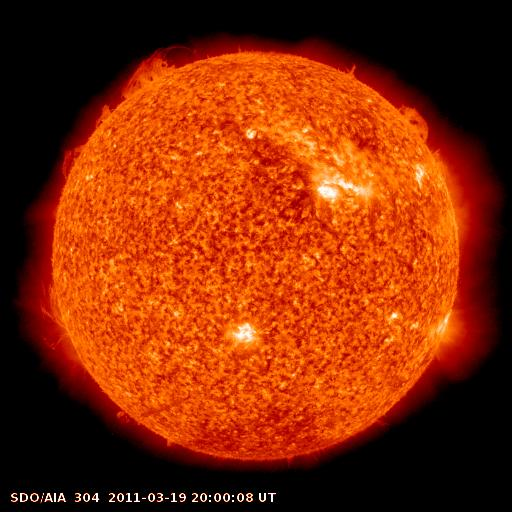prominence: (120, 33, 216, 102), (32, 275, 82, 360), (388, 97, 434, 150), (55, 136, 94, 181), (103, 400, 143, 436), (333, 54, 369, 85), (87, 99, 117, 126)
